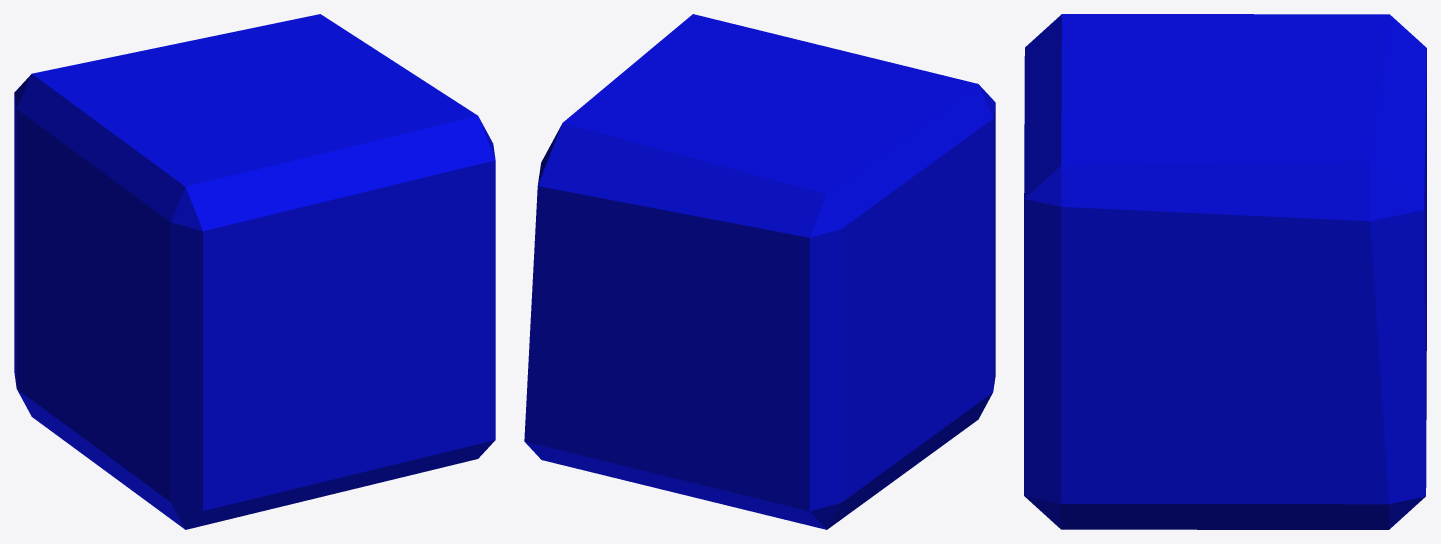
The model's file is SM_Medium_QuarryStone.fbx.
3 renders of one model, left to right at view 1: azimuth 30°, elevation 25°; view 2: azimuth 150°, elevation 25°; view 3: azimuth 270°, elevation 25°, orthographic. The views are drawn at different scales.
Visible parts, largest first — view 1: SM_Medium_QuarryStone; view 2: SM_Medium_QuarryStone; view 3: SM_Medium_QuarryStone.
Boxes of the visible parts, bbox=[...] form: SM_Medium_QuarryStone: bbox=[14, 14, 495, 529]; SM_Medium_QuarryStone: bbox=[524, 14, 995, 529]; SM_Medium_QuarryStone: bbox=[1024, 14, 1426, 529].
Size of the model in its own units: 68.01 by 69.04 by 69.17.
